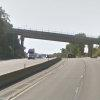Bridge: (10, 21, 97, 45)
